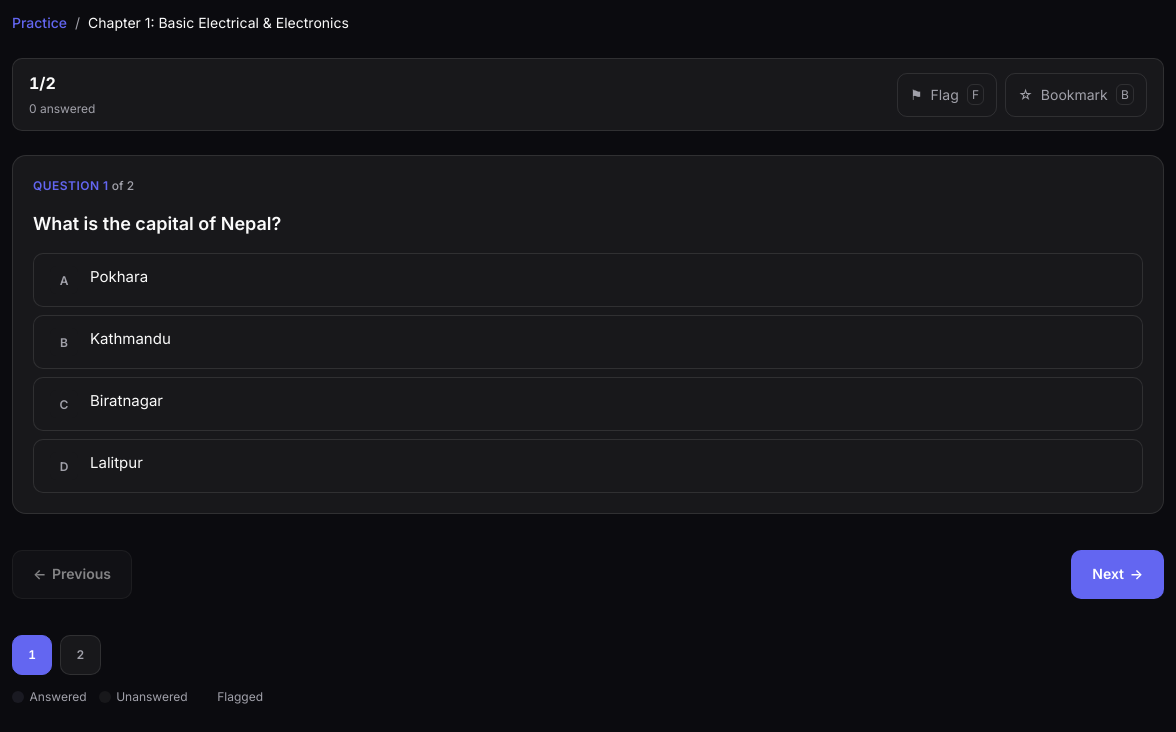
TopicPractice › reaches the explanation panel, which is honest about having none
Expected: the text "Question 1" is shown, [33,176,134,195]
Click the text "Kathmandu": click(130, 339) [90,328,171,350]
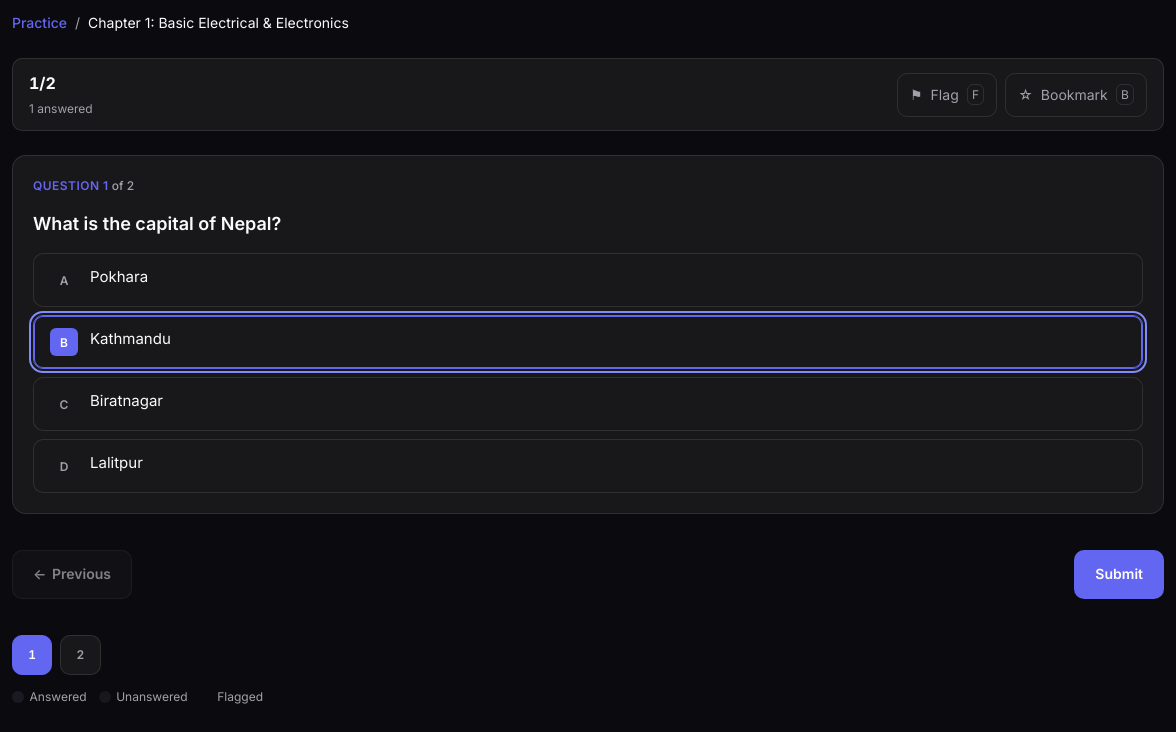
Click the button "Submit": click(1119, 575) [1074,550,1164,599]
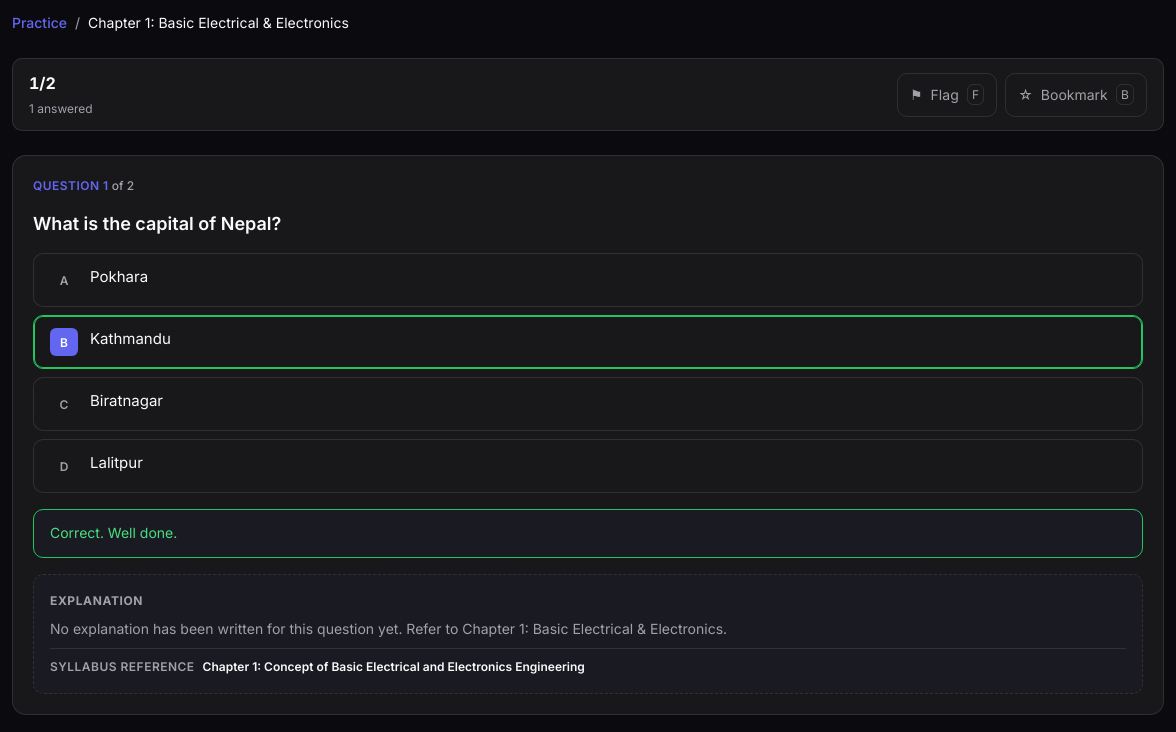
Result: the text "No explanation has been written" is shown at [50,620,402,637]
